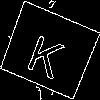K: (24, 25, 70, 80)
